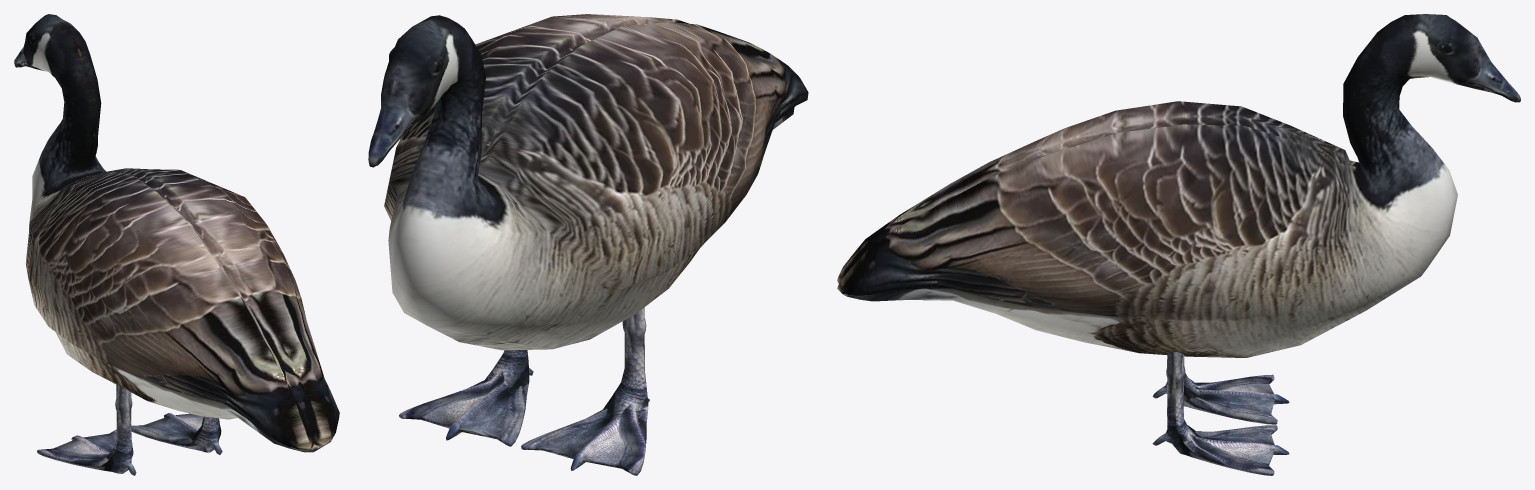
The model's file is goose.glb.
The picture shows the model from 3 angles, left to right: view 1: azimuth 30°, elevation 25°; view 2: azimuth 150°, elevation 25°; view 3: azimuth 270°, elevation 25°; orthographic projection. The views are drawn at different scales.
Parts seen in each view (by area): view 1: goose; view 2: goose; view 3: goose.
Part boxes in pixels (<box>): goose: <box>14,14,339,475</box>; goose: <box>368,14,808,475</box>; goose: <box>837,14,1520,475</box>.
Bounding box in the file's own units: 0.3386 × 0.6035 × 0.9.
1 material, 1 textured.
